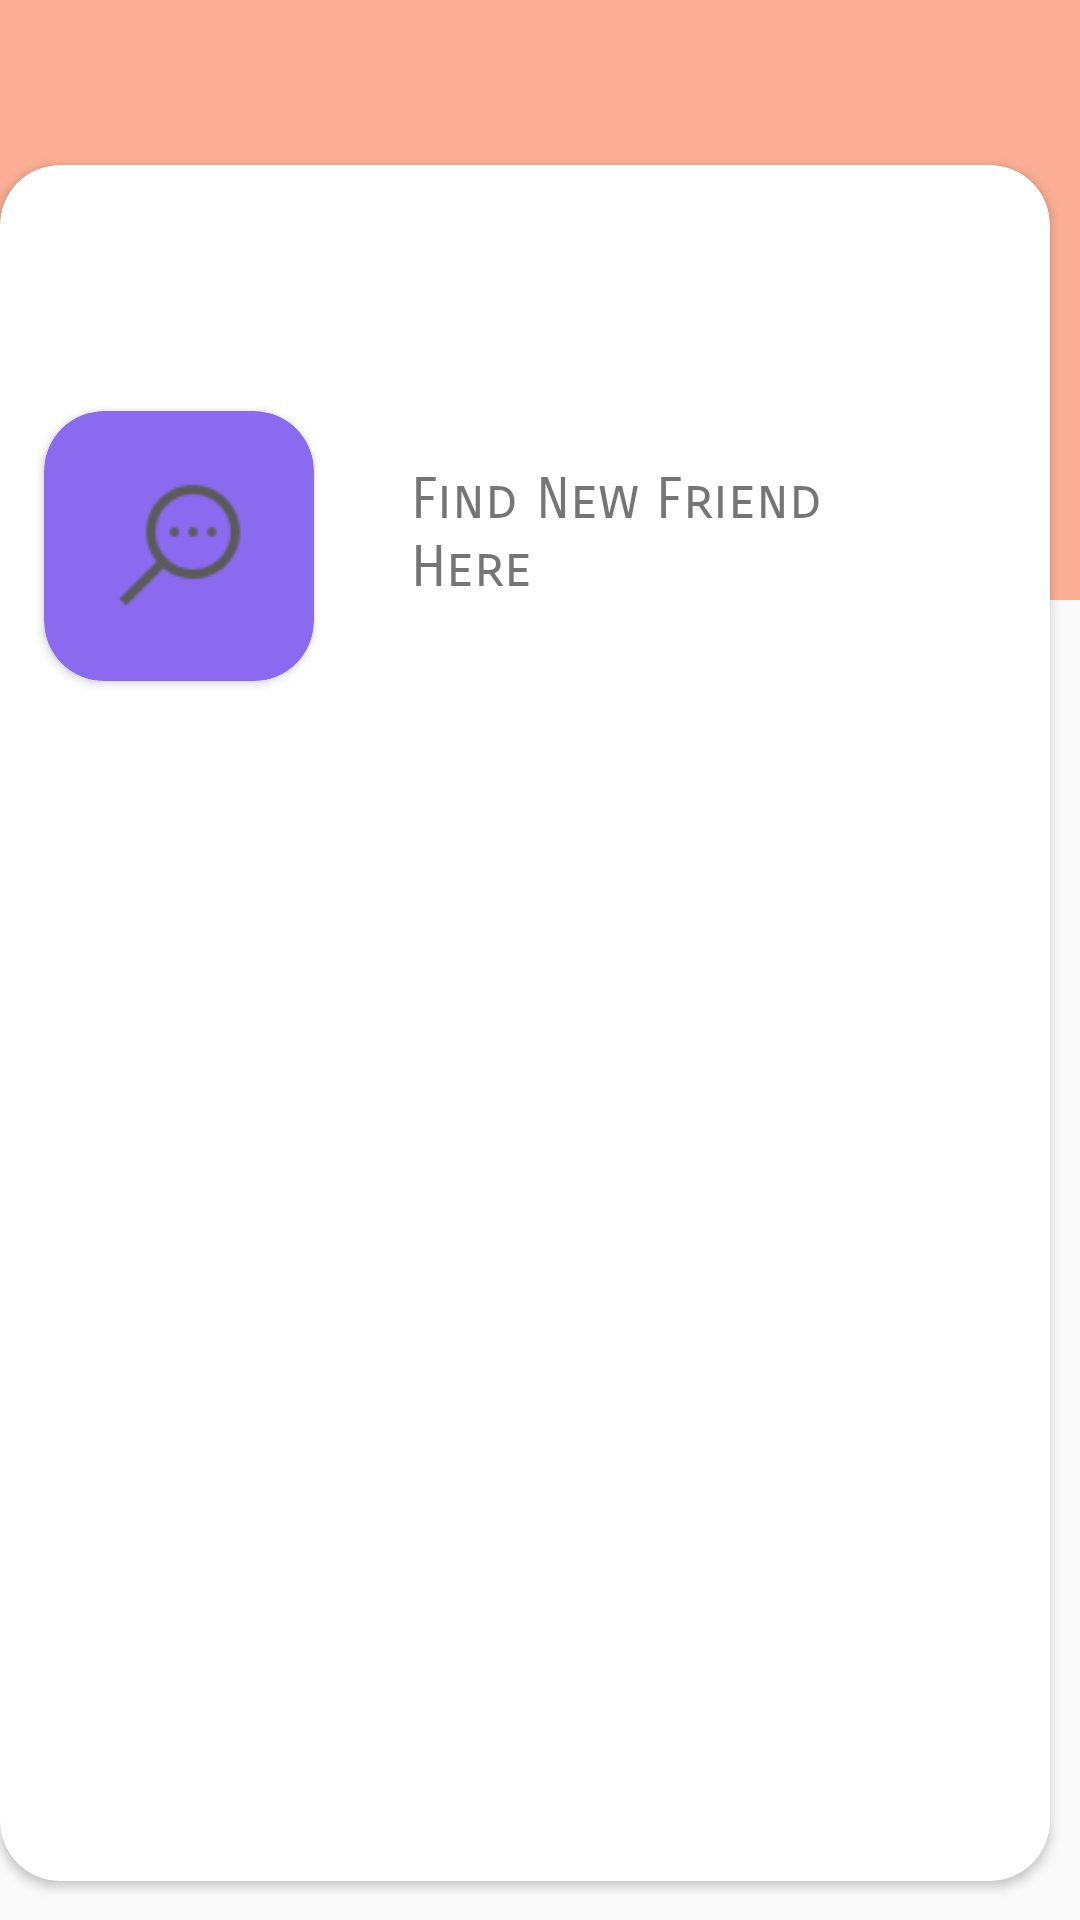

Icon click points for this 1080x1920 phone screenshot, format (x=x, y=y):
search: (x=180, y=545)
